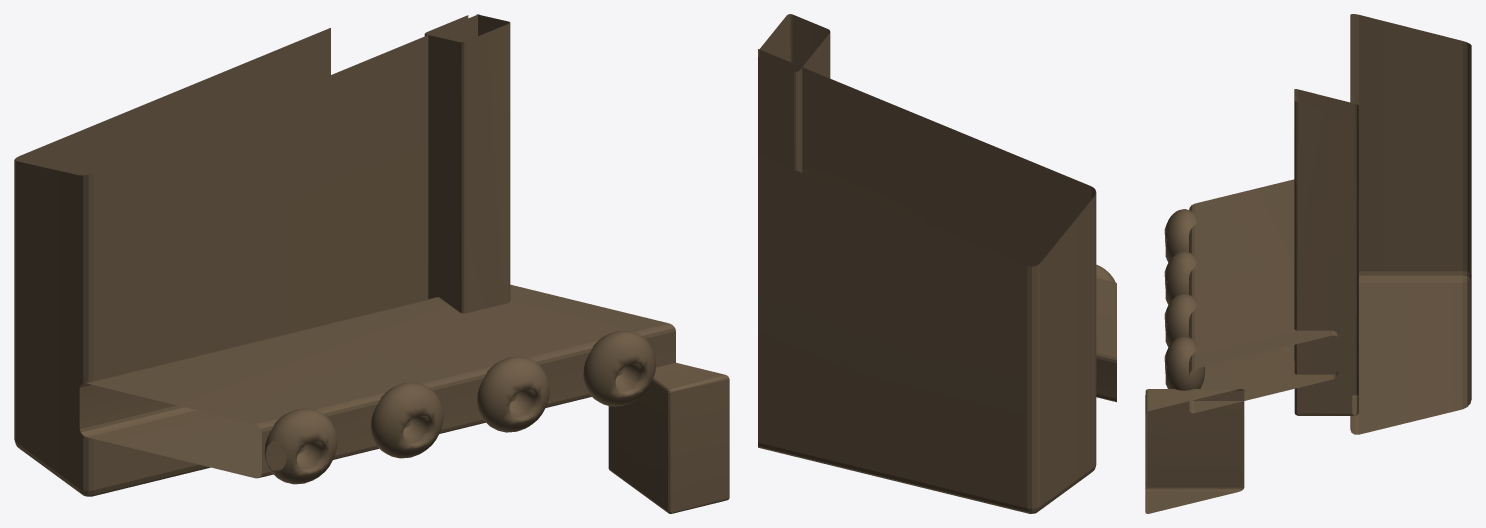
Rendered from temple05_lod1.glb.
3 views of the same model, side by side, from view 1: azimuth 30°, elevation 25°; view 2: azimuth 150°, elevation 25°; view 3: azimuth 270°, elevation 25° (orthographic). The views are drawn at different scales.
Parts seen in each view (by area): view 1: TEMPLE05_original_v5.001; view 2: TEMPLE05_original_v5.001; view 3: TEMPLE05_original_v5.001.
Boxes of the visible parts, x1,y1,x2,y2 form: TEMPLE05_original_v5.001: (14, 14, 729, 513); TEMPLE05_original_v5.001: (758, 14, 1116, 513); TEMPLE05_original_v5.001: (1145, 14, 1471, 513).
Size of the model in its own units: 3.1 by 2.47 by 2.01.
